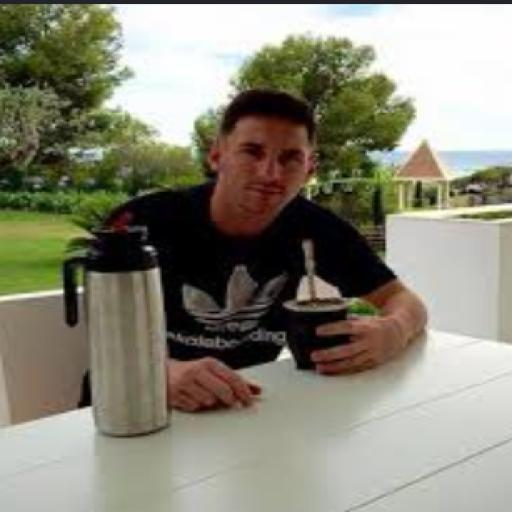mate: (287, 301, 347, 369)
termo: (63, 227, 168, 436)
